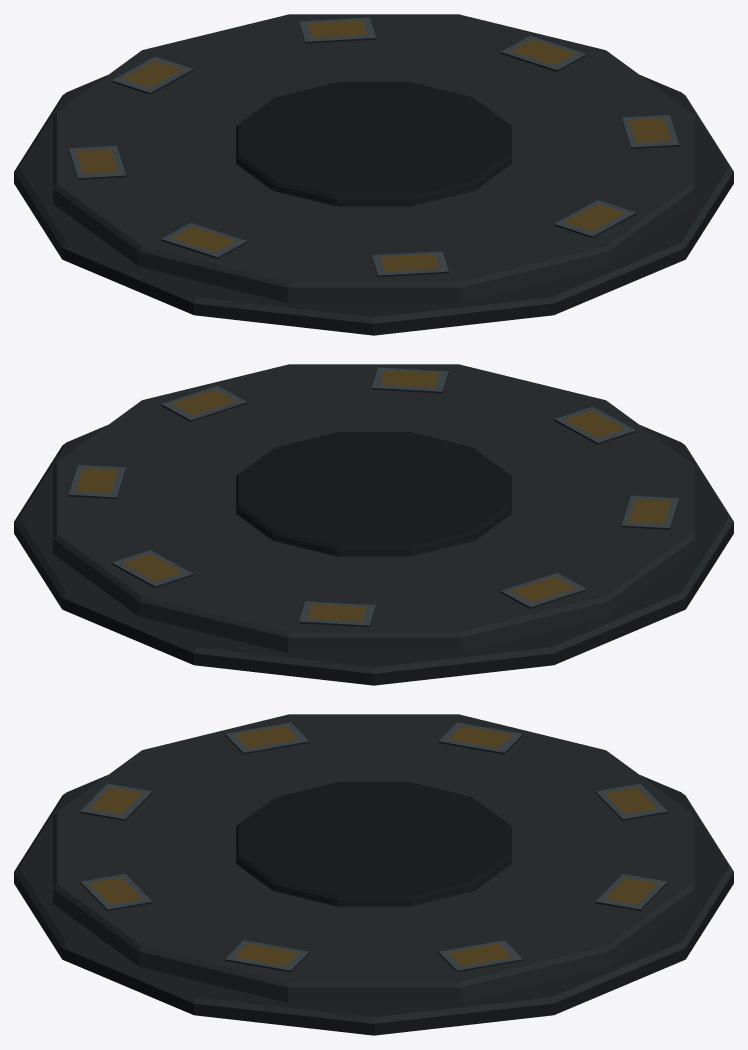
The model's file is lp_core_base.glb.
The picture shows the model from 3 angles, top to bottom: view 1: azimuth 30°, elevation 25°; view 2: azimuth 150°, elevation 25°; view 3: azimuth 270°, elevation 25°; orthographic projection.
Visible parts, largest first — view 1: lp_core_base; view 2: lp_core_base; view 3: lp_core_base.
Part boxes in pixels (box(x1,y1,x2,y2)): lp_core_base: box(14, 14, 733, 335); lp_core_base: box(14, 364, 733, 685); lp_core_base: box(14, 714, 733, 1035).
Bounding box in the file's own units: 4.44 × 0.302 × 4.44.
Materials: 1 (1 with a texture image).
